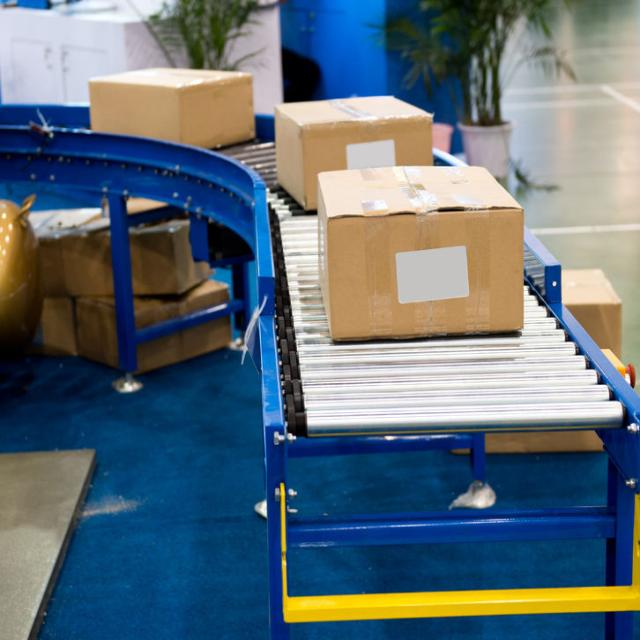food: (315, 162, 525, 343), (272, 93, 436, 213), (86, 65, 256, 151)
